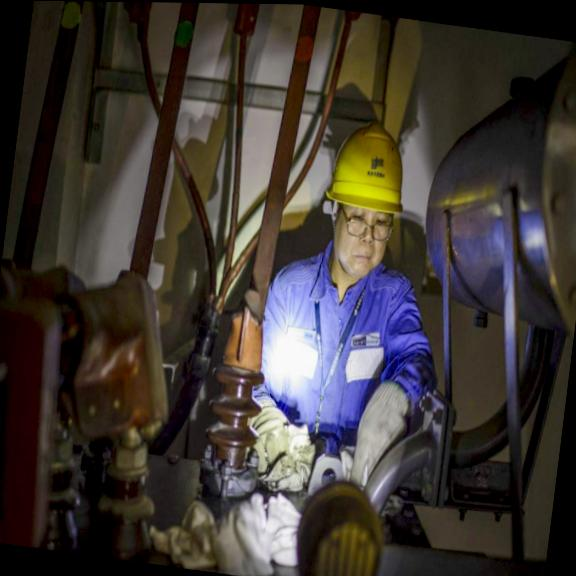no_safety_vest: (261, 249, 412, 452)
